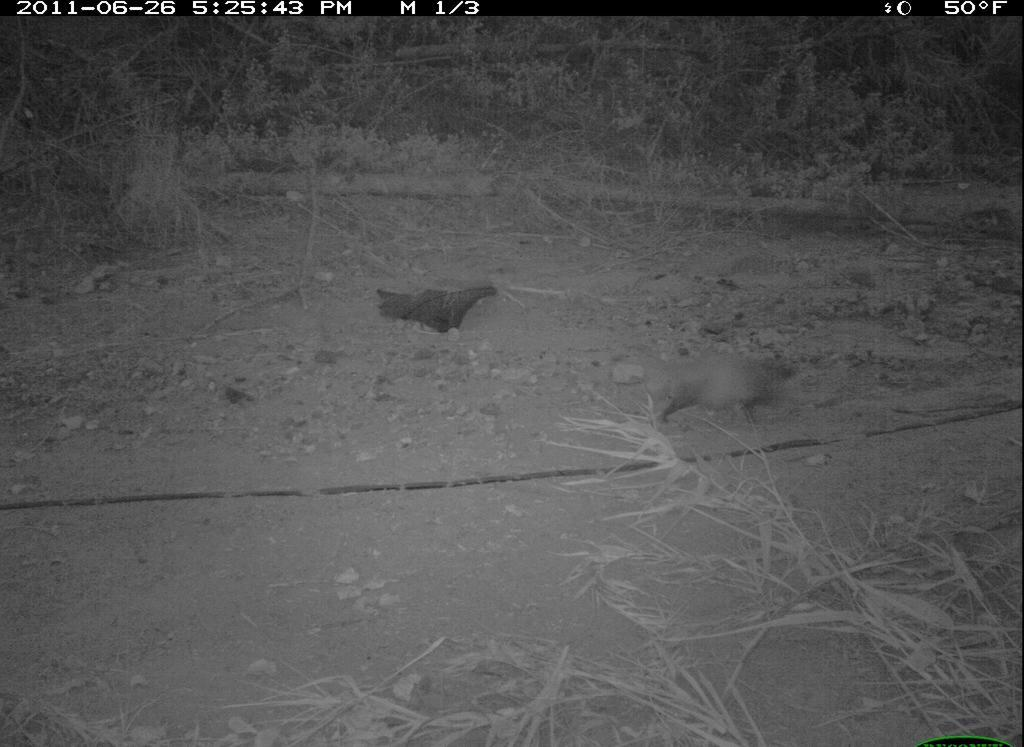opossum: (626, 340, 796, 441)
